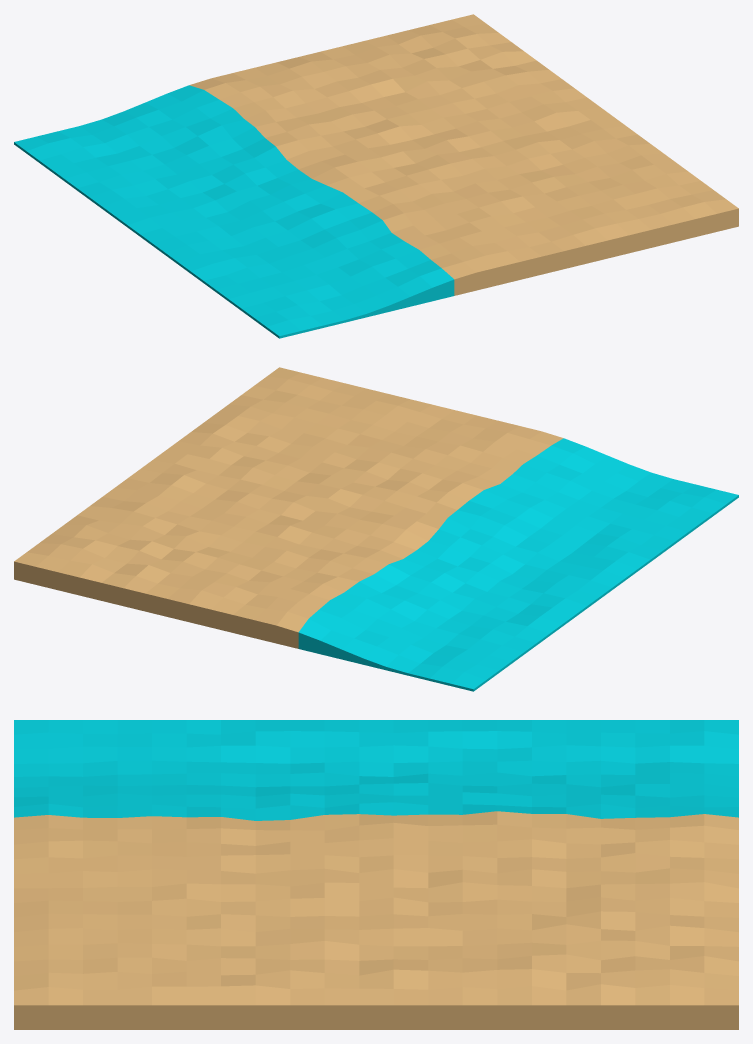
Rendered from beach.fbx.
3 views of the same model, one above another, from view 1: azimuth 30°, elevation 25°; view 2: azimuth 150°, elevation 25°; view 3: azimuth 270°, elevation 25° (orthographic). The views are drawn at different scales.
Parts seen in each view (by area): view 1: Plane; view 2: Plane; view 3: Plane.
Part boxes in pixels (box(x1,y1,x2,y2)): Plane: box(14, 14, 738, 338); Plane: box(14, 367, 738, 691); Plane: box(14, 720, 738, 1029).
Bounding box in the file's own units: 800 × 800 × 39.69.
